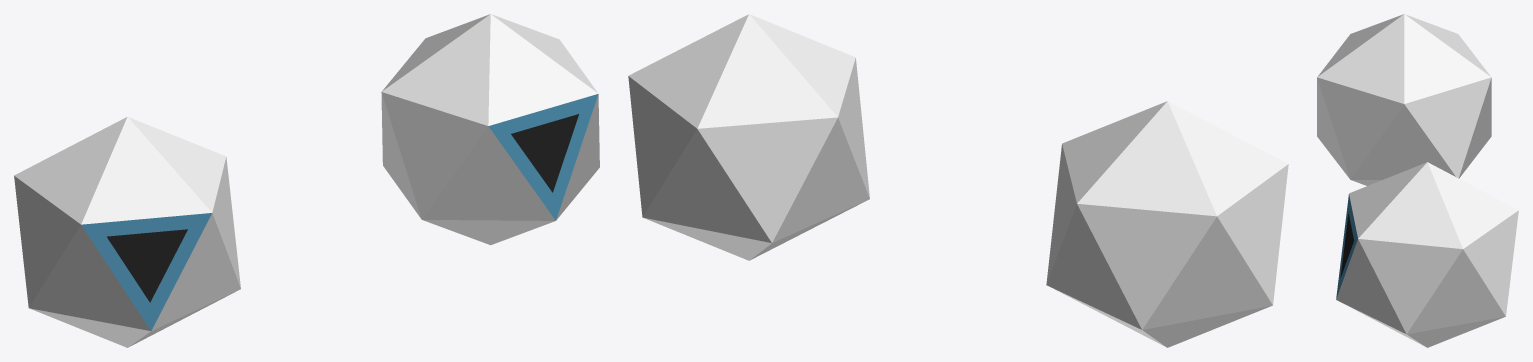
The model's file is exhaust1.glb.
The picture shows the model from 3 angles, left to right: view 1: azimuth 30°, elevation 25°; view 2: azimuth 150°, elevation 25°; view 3: azimuth 270°, elevation 25°; orthographic projection. The views are drawn at different scales.
Visible parts, largest first — view 1: exhaust1; view 2: exhaust1; view 3: exhaust1.
Boxes of the visible parts, x1,y1,x2,y2 form: exhaust1: (14,14,599,347); exhaust1: (628,14,1288,347); exhaust1: (1317,14,1518,347).
Size of the model in its own units: 1.78 by 0.6875 by 0.6763.
1 material, 1 textured.
